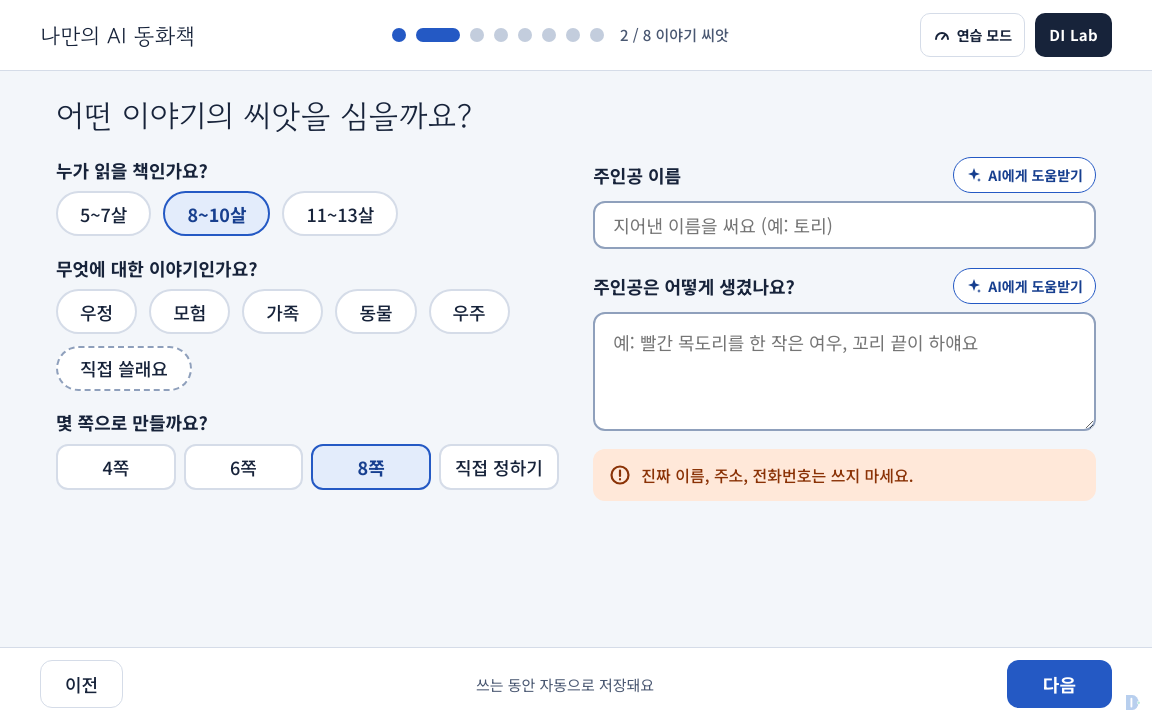
Scenario: SeedScreen › age and page count chips update the seed in the store
Later steps or results of the test are not shown.
Click the button "5~7살" at [104, 214], box [56,191,151,236]
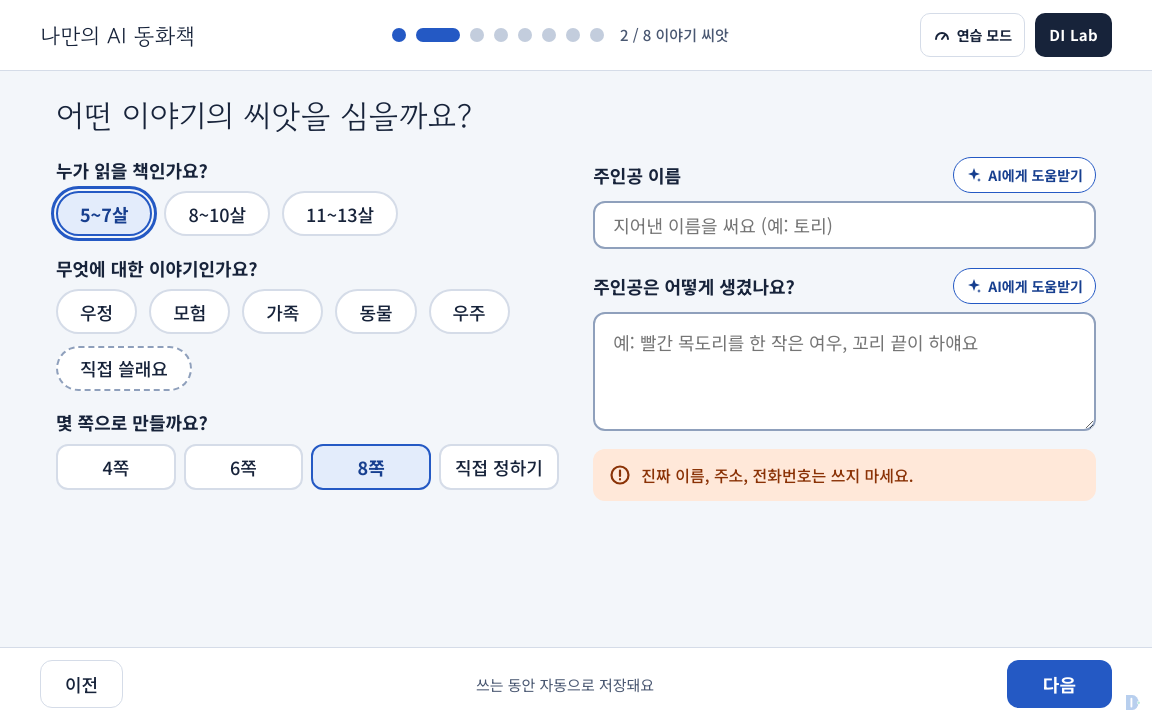
Check: the button "5~7살" is pressed, box [56,191,152,236]
